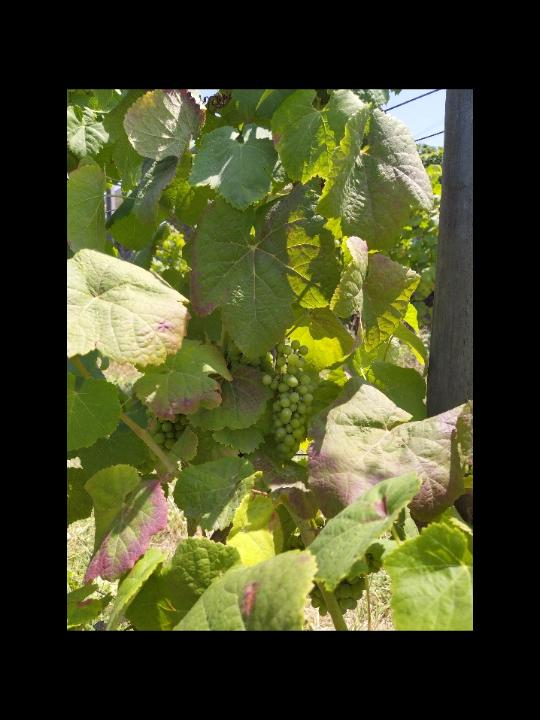grape: (262, 339, 316, 461)
